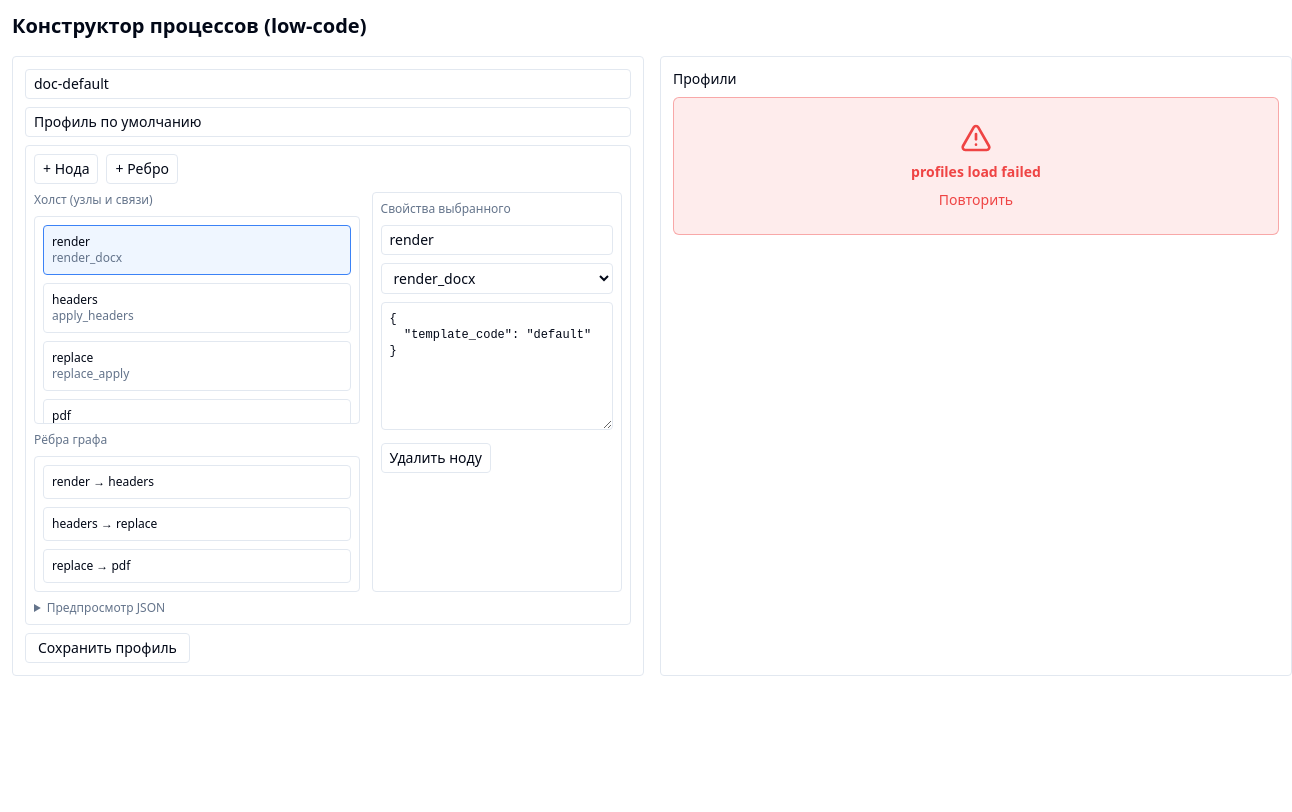
PipelineBuilderPage › shows load error for profiles and retries successfully
expect the message shows "profiles load failed": met, box [911,162,1041,181]
Click the button "Повторить" at (976, 200), box [939,190,1013,210]
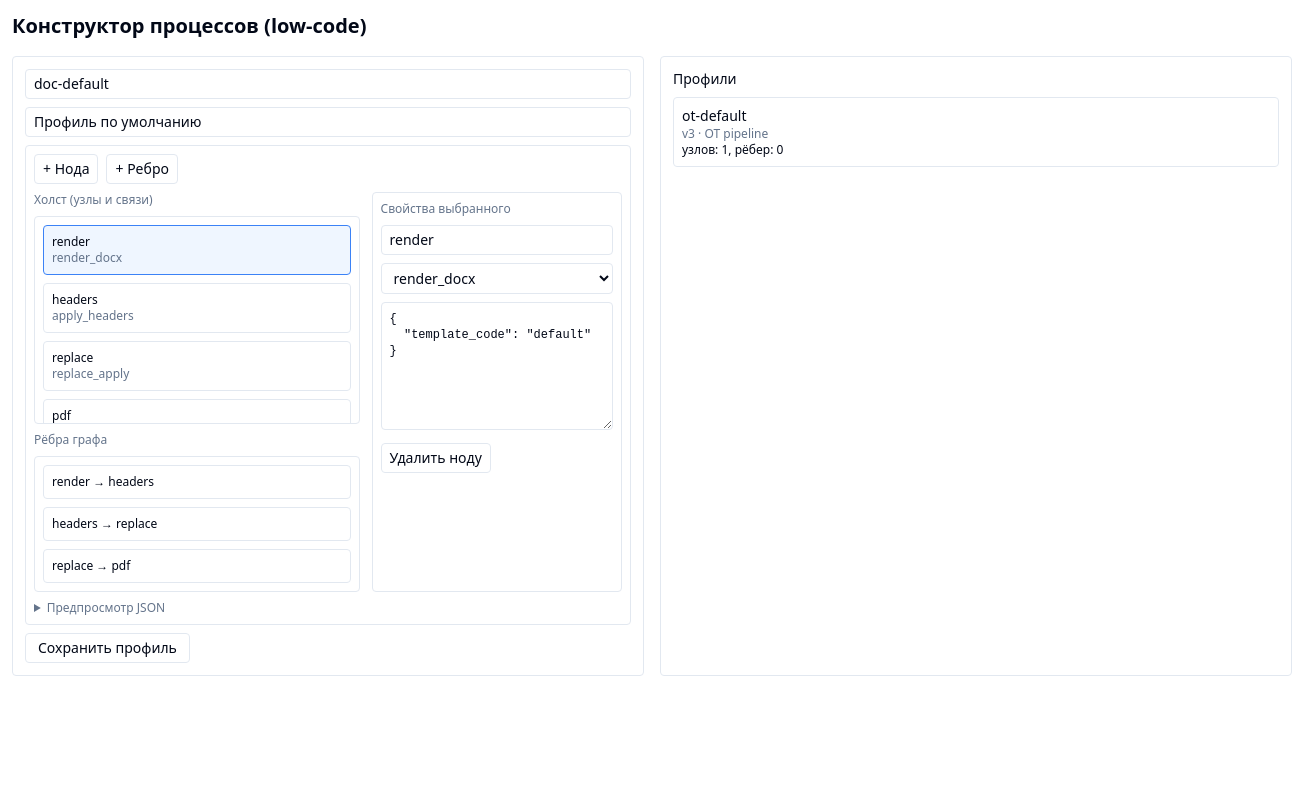
expect the text "ot-default" is shown: met, box [682,106,746,125]
expect the text "v3 · OT pipeline" is shown: met, box [682,125,768,142]
